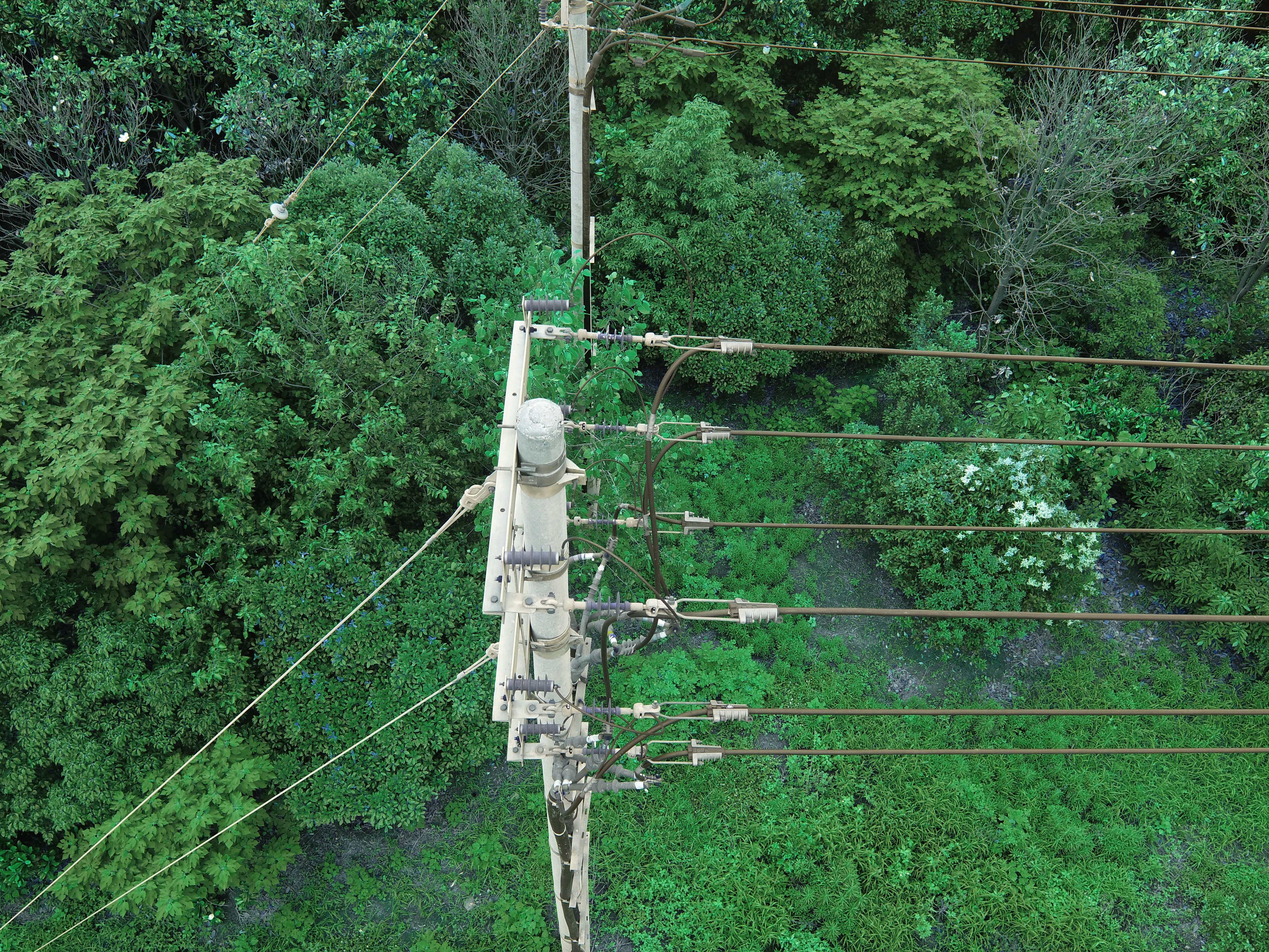severe_soiling_no_discharge_whole: (597, 324, 630, 353), (595, 416, 629, 440), (586, 508, 617, 533)
